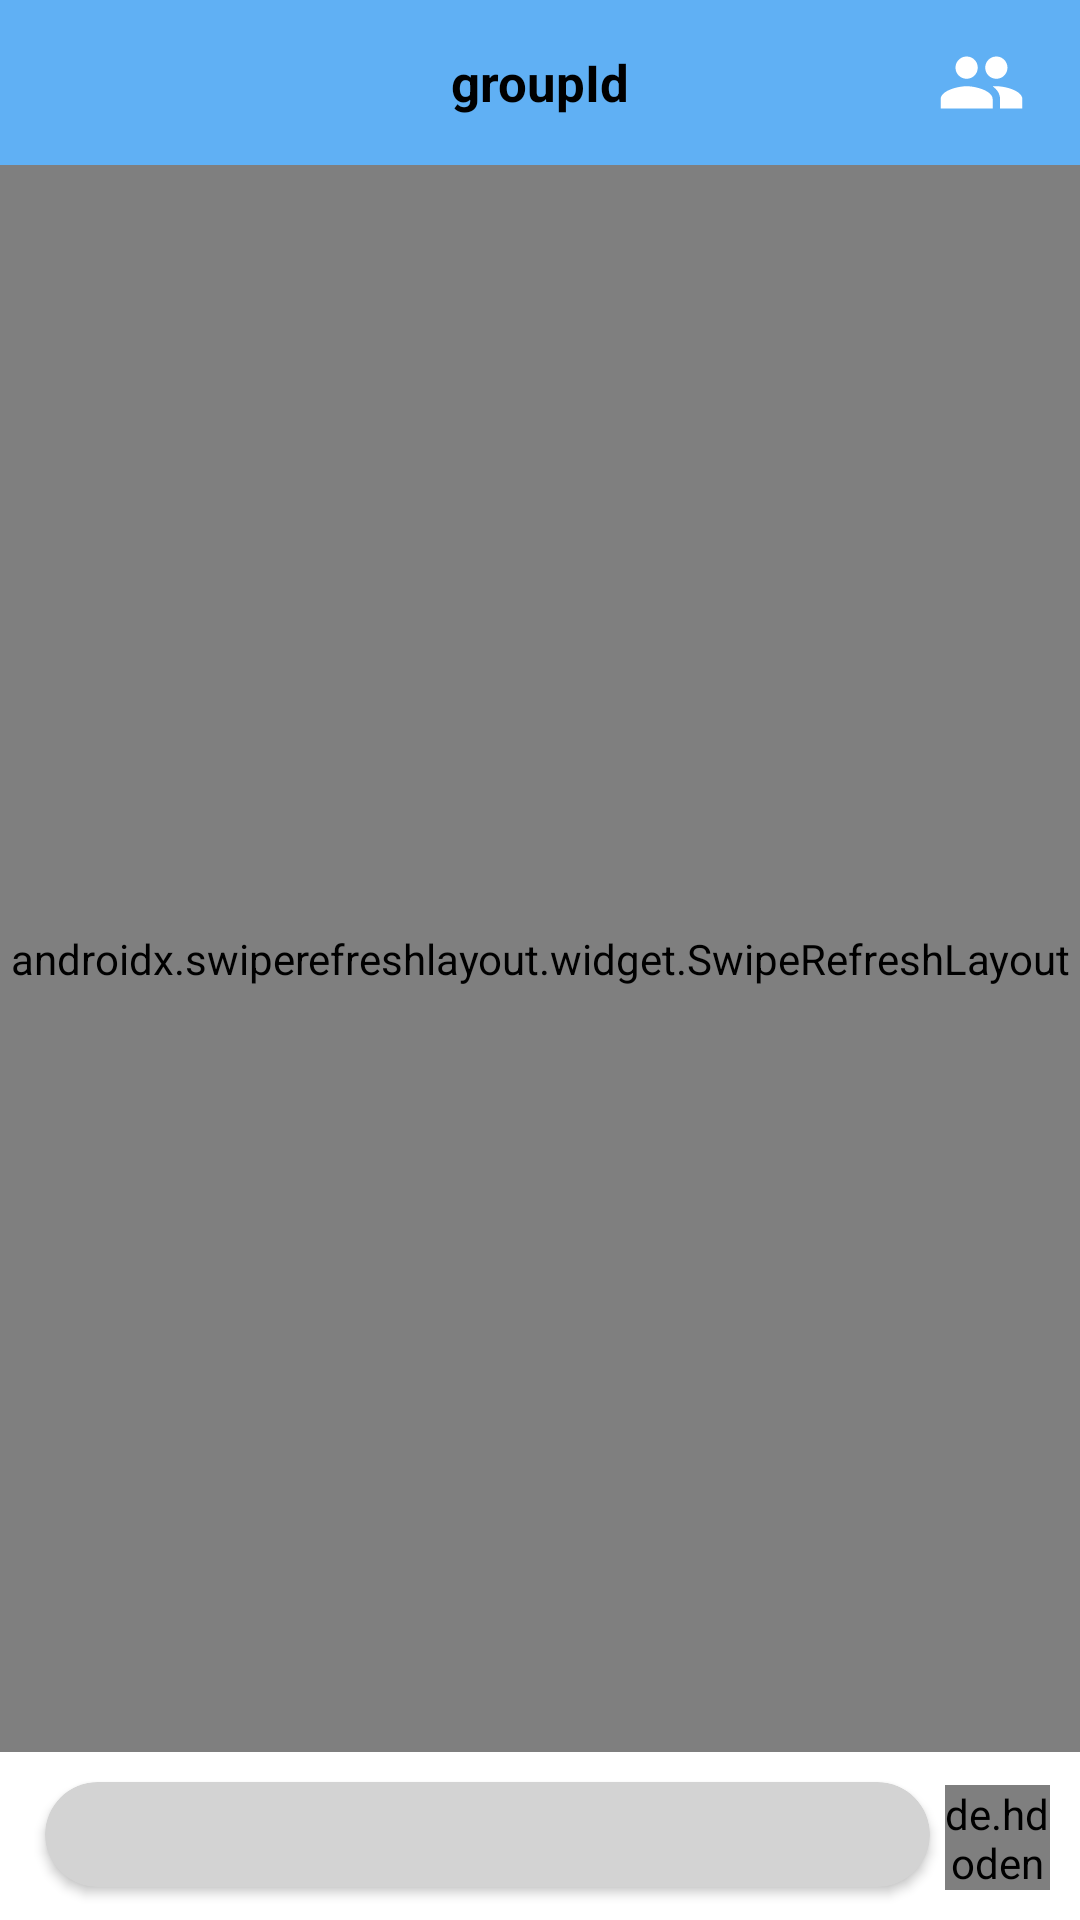

Where icons sit on this 1080 x 1920 app screen, as detection(x1, y1, x2, y2):
group full: detection(940, 56, 1023, 109)
